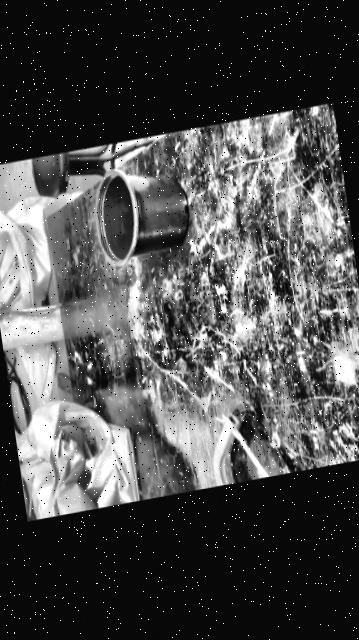pot: (88, 158, 191, 266)
